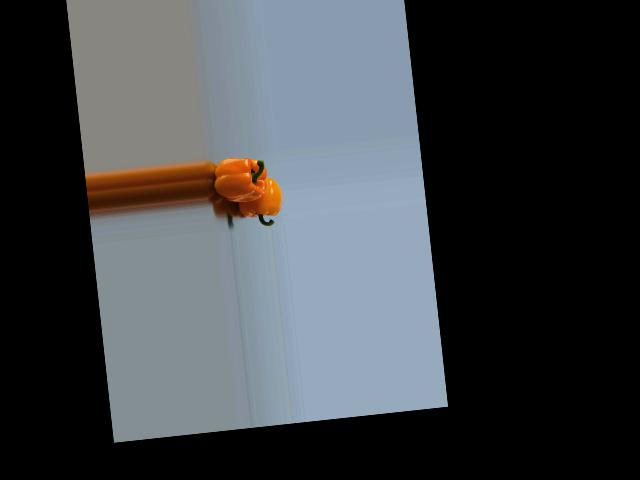bell_pepper: (228, 174, 285, 229)
